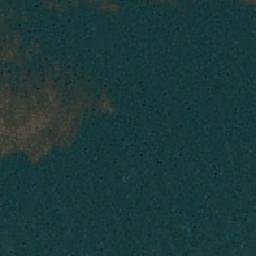debris: (1, 78, 38, 161), (55, 96, 82, 139), (39, 85, 54, 149), (1, 33, 21, 61), (83, 95, 113, 111), (100, 2, 124, 12)
